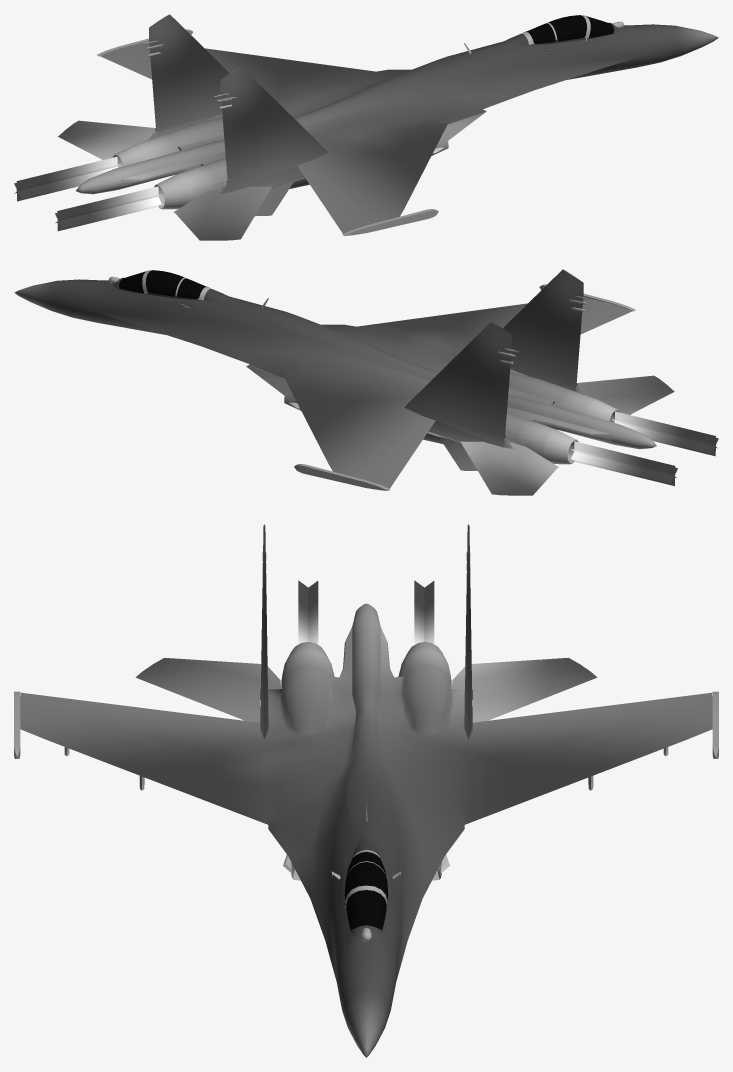
The picture shows the model from 3 angles, top to bottom: view 1: azimuth 30°, elevation 25°; view 2: azimuth 150°, elevation 25°; view 3: azimuth 270°, elevation 25°; orthographic projection. The views are drawn at different scales.
Visible parts, largest first — view 1: Su-27_Flanker, Flame_Booster.001, Flame_Booster.002; view 2: Su-27_Flanker, Flame_Booster.002, Flame_Booster.001; view 3: Su-27_Flanker, Flame_Booster.001, Flame_Booster.002.
Boxes of the visible parts, box(x1,y1,x2,y2) form: Su-27_Flanker: box(58, 14, 718, 240); Flame_Booster.001: box(55, 186, 161, 231); Flame_Booster.002: box(14, 156, 120, 201); Su-27_Flanker: box(14, 269, 674, 495); Flame_Booster.002: box(571, 441, 677, 485); Flame_Booster.001: box(612, 411, 718, 456); Su-27_Flanker: box(14, 524, 718, 1057); Flame_Booster.001: box(298, 580, 318, 644); Flame_Booster.002: box(414, 580, 434, 644).
Size of the model in its own units: 22.69 by 4.99 by 14.27.
2 materials, 2 textured.
